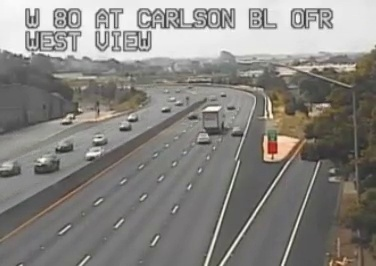car: (196, 132, 210, 142)
truck: (201, 106, 224, 132)
